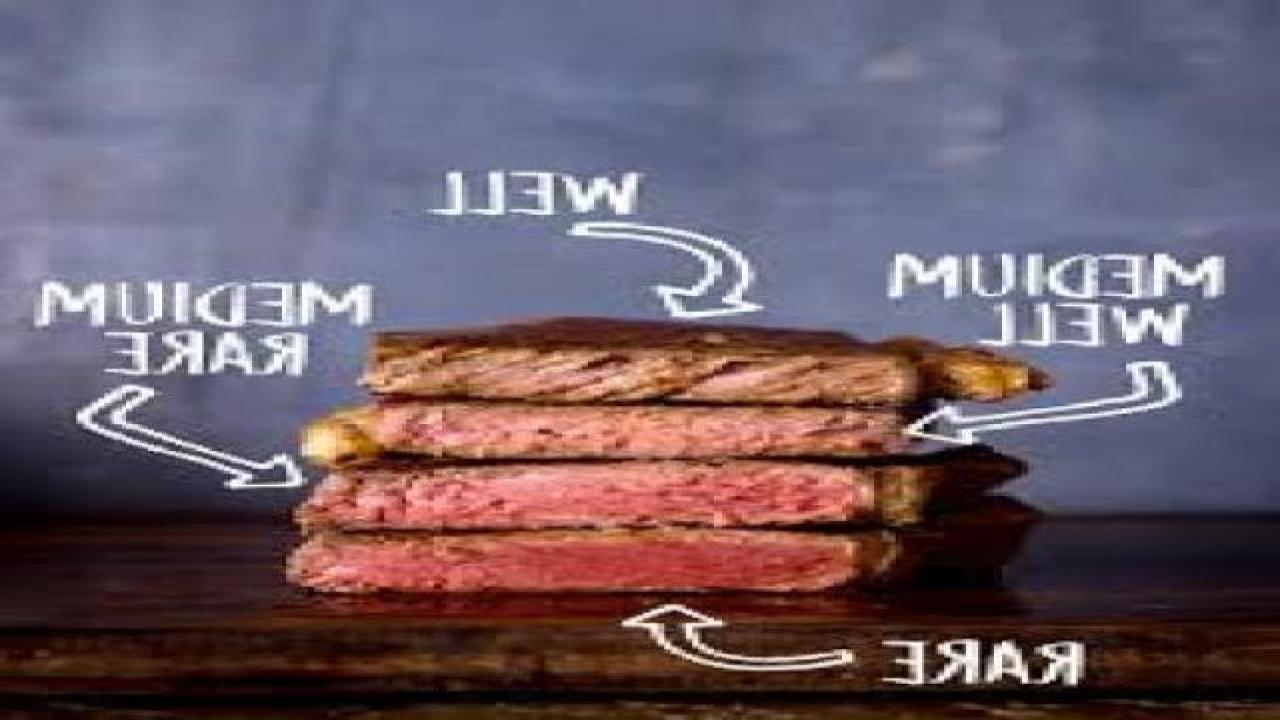done: (331, 317, 974, 458)
raw: (262, 460, 920, 604)
